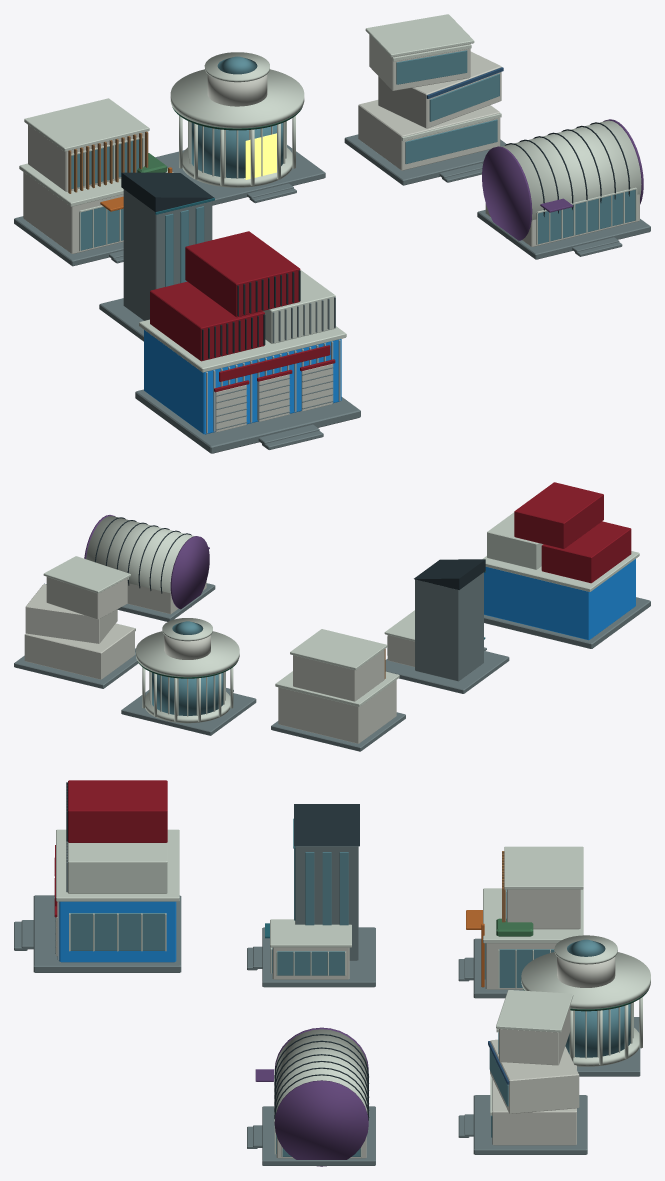
Rendered from professional.glb.
3 renders of one model, top to bottom at view 1: azimuth 30°, elevation 25°; view 2: azimuth 150°, elevation 25°; view 3: azimuth 270°, elevation 25°, orthographic. The views are drawn at different scales.
Parts seen in each view (by area): view 1: hall_docker_mesh, hall_google_mesh, hall_shell_mesh, hall_openai_mesh, hall_anthropic_mesh, hall_xai_mesh; view 2: hall_docker_mesh, hall_google_mesh, hall_anthropic_mesh, hall_xai_mesh, hall_openai_mesh, hall_shell_mesh; view 3: hall_docker_mesh, hall_xai_mesh, hall_google_mesh, hall_shell_mesh, hall_anthropic_mesh, hall_openai_mesh.
Part boxes in pixels (bbox=[...]): hall_docker_mesh: bbox=[135, 231, 360, 453]; hall_google_mesh: bbox=[344, 14, 506, 185]; hall_shell_mesh: bbox=[477, 119, 650, 259]; hall_openai_mesh: bbox=[155, 52, 325, 205]; hall_anthropic_mesh: bbox=[14, 98, 173, 266]; hall_xai_mesh: bbox=[99, 172, 214, 341]; hall_docker_mesh: bbox=[482, 482, 650, 648]; hall_google_mesh: bbox=[14, 556, 138, 688]; hall_anthropic_mesh: bbox=[271, 629, 405, 751]; hall_xai_mesh: bbox=[384, 559, 509, 693]; hall_openai_mesh: bbox=[121, 618, 256, 735]; hall_shell_mesh: bbox=[84, 515, 215, 621]; hall_docker_mesh: bbox=[14, 780, 181, 972]; hall_xai_mesh: bbox=[247, 804, 375, 987]; hall_google_mesh: bbox=[458, 990, 587, 1154]; hall_shell_mesh: bbox=[247, 1027, 375, 1166]; hall_anthropic_mesh: bbox=[458, 846, 583, 998]; hall_openai_mesh: bbox=[521, 935, 650, 1076].
Size of the model in its own units: 23.63 by 5.99 by 24.09.
